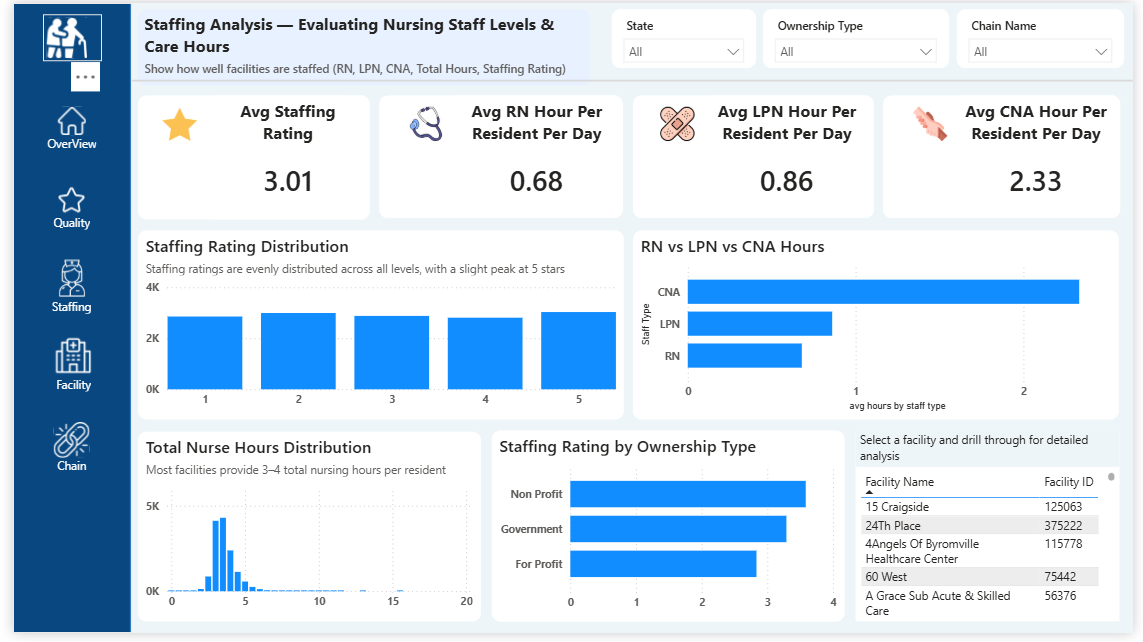

What the dashboard file says about the page in this screenshot:
{"tool":"powerbi","page":{"name":"Staffing","canvas":[1280,720],"ordinal":2},"visuals":[{"type":"shape","box":[0,0,134.4,720],"z":0,"group":"g3"},{"type":"group","id":"g1","title":"Header","box":[135.7,7.3,1144.3,111.3],"z":0},{"type":"textbox","title":"Staffing Analysis — Evaluating Nursing Staff Levels & Care Hours","box":[141.6,7.3,519,88],"z":0,"group":"g1"},{"type":"group","id":"g2","title":"Total Facilites","box":[142.9,105.2,265,142],"z":0,"group":"g5"},{"type":"shape","box":[142.9,105.2,265,142],"z":0,"group":"g2"},{"type":"shape","box":[419.1,105.2,278.3,140],"z":0,"group":"g4"},{"type":"shape","box":[708.6,105.2,275,140],"z":0,"group":"g6"},{"type":"shape","box":[994.8,105.2,271.6,140],"z":0,"group":"g7"},{"type":"tableEx","fields":{"Values":["cms_cleaned.Provider Name","cms_cleaned.CMS Certification Number (CCN)"]},"box":[962.8,531.7,301.7,175],"z":0,"group":"g8"},{"type":"shape","title":"line","box":[135.7,54.3,1144.3,64.3],"z":500,"group":"g1"},{"type":"group","id":"g3","title":"Side Bar","box":[0,0,135.7,720],"z":1000},{"type":"slicer","fields":{"Values":["cms_cleaned.State"]},"box":[683.7,7.5,165,67.5],"z":1000,"group":"g1"},{"type":"cardVisual","title":"Avg Staffing Rating","fields":{"Data":["cms_cleaned.Average Overall Rating"]},"box":[227.2,105.2,174.2,142],"z":1000,"group":"g2"},{"type":"group","id":"g4","title":"Overall Rating","box":[419.1,105.2,278.3,140],"z":1000,"group":"g5"},{"type":"cardVisual","title":"Avg RN Hour Per Resident Per Day","fields":{"Data":["cms_cleaned.Avg RN hour"]},"box":[507.7,105.2,182.9,140],"z":1000,"group":"g4"},{"type":"cardVisual","title":"Avg LPN Hour Per Resident Per Day","fields":{"Data":["cms_cleaned.Average LPN Hour"]},"box":[794.9,105.2,180.7,140],"z":1000,"group":"g6"},{"type":"cardVisual","title":"Avg CNA Hour Per Resident Per Day","fields":{"Data":["cms_cleaned.Avg CNA Hour"]},"box":[1081.2,105.2,178.5,140],"z":1000,"group":"g7"},{"type":"actionButton","title":"Staffing","box":[0,274.3,134.3,98.6],"z":1000,"group":"g3"},{"type":"textbox","title":"Select a facility and drill through for detailed analysis","box":[963.2,490,301.7,41.7],"z":1000,"group":"g8"},{"type":"slicer","fields":{"Values":["cms_cleaned.Ownership Type"]},"box":[857.5,7.5,212.5,67.5],"z":2000,"group":"g1"},{"type":"group","id":"g5","title":"KPI Group","box":[142.9,105.2,1125.2,142],"z":2000},{"type":"group","id":"g6","title":"Stafing rating","box":[708.6,105.2,275,140],"z":2000,"group":"g5"},{"type":"image","box":[166.5,118.2,49.3,40],"z":2000,"group":"g2"},{"type":"image","box":[735.7,118.4,47.1,39.5],"z":2000,"group":"g6"},{"type":"image","box":[1022.6,118.4,53.4,39.5],"z":2000,"group":"g7"},{"type":"image","box":[448.3,118.7,49.5,39.4],"z":2000,"group":"g4"},{"type":"actionButton","title":"Chain","box":[0,462.9,134.3,90],"z":2000,"group":"g3"},{"type":"slicer","fields":{"Values":["cms_cleaned.Chain Name"]},"box":[1078.7,7.5,191.2,67.5],"z":3000,"group":"g1"},{"type":"group","id":"g7","title":"Resident per day","box":[994.8,105.2,273.3,140],"z":3000,"group":"g5"},{"type":"clusteredColumnChart","title":"Staffing Rating Distribution ","fields":{"Y":["cms_cleaned.Total Facilities"],"Category":["cms_cleaned.Overall Rating"]},"box":[142.8,259.4,555.4,215.9],"z":3000},{"type":"actionButton","title":"Facility","box":[2.9,360,132.9,102.9],"z":3000,"group":"g3"},{"type":"actionButton","title":"OverView","box":[0,98.6,134.3,90],"z":4000,"group":"g3"},{"type":"clusteredBarChart","title":"RN vs LPN vs CNA Hours ","fields":{"Y":["cms_cleaned.avg hours by staff type"],"Category":["Staff Type Table.Staff Type"]},"box":[708.6,259.4,555.4,215.9],"z":4000},{"type":"actionButton","box":[0,188.6,134.3,90],"z":5000,"group":"g3"},{"type":"clusteredColumnChart","title":"Total Nurse Hours Distribution ","fields":{"Category":["cms_cleaned.Reported Total Nurse Staffing Hours per Resident per Day (bins)"],"Y":["cms_cleaned.Total Facilities"]},"box":[143.3,490,391.7,216.7],"z":5000},{"type":"actionButton","box":[34.1,12.9,67.1,54.3],"z":6000,"group":"g3"},{"type":"clusteredBarChart","title":"Staffing Rating by Ownership Type ","fields":{"Category":["cms_cleaned.Ownership Category"],"Y":["cms_cleaned.Average Overall Rating"]},"box":[546.7,488.3,403.3,218.3],"z":6000},{"type":"group","id":"g8","title":"Group 1","box":[962.8,490,302,216.7],"z":7000}]}

Visuals, with their boxes on the page's 1280x720 design canvas (x1, y1, x2, y2). These are canvas units, not pixel positions in the 1143x642 screenshot, which may show the page scaled, cropped or inside an application window:
shape: {"left": 0, "top": 0, "right": 134, "bottom": 720}
"Header" group: {"left": 136, "top": 7, "right": 1280, "bottom": 119}
"Staffing Analysis — Evaluating Nursing Staff Levels & Care Hours" textbox: {"left": 142, "top": 7, "right": 661, "bottom": 95}
"Total Facilites" group: {"left": 143, "top": 105, "right": 408, "bottom": 247}
shape: {"left": 143, "top": 105, "right": 408, "bottom": 247}
shape: {"left": 419, "top": 105, "right": 697, "bottom": 245}
shape: {"left": 709, "top": 105, "right": 984, "bottom": 245}
shape: {"left": 995, "top": 105, "right": 1266, "bottom": 245}
tableEx - cms_cleaned.Provider Name x cms_cleaned.CMS Certification Number (CCN): {"left": 963, "top": 532, "right": 1264, "bottom": 707}
"line" shape: {"left": 136, "top": 54, "right": 1280, "bottom": 119}
"Side Bar" group: {"left": 0, "top": 0, "right": 136, "bottom": 720}
slicer - cms_cleaned.State: {"left": 684, "top": 8, "right": 849, "bottom": 75}
"Avg Staffing Rating" cardVisual: {"left": 227, "top": 105, "right": 401, "bottom": 247}
"Overall Rating" group: {"left": 419, "top": 105, "right": 697, "bottom": 245}
"Avg RN Hour Per Resident Per Day" cardVisual: {"left": 508, "top": 105, "right": 691, "bottom": 245}
"Avg LPN Hour Per Resident Per Day" cardVisual: {"left": 795, "top": 105, "right": 976, "bottom": 245}
"Avg CNA Hour Per Resident Per Day" cardVisual: {"left": 1081, "top": 105, "right": 1260, "bottom": 245}
"Staffing" actionButton: {"left": 0, "top": 274, "right": 134, "bottom": 373}
"Select a facility and drill through for detailed analysis" textbox: {"left": 963, "top": 490, "right": 1265, "bottom": 532}
slicer - cms_cleaned.Ownership Type: {"left": 858, "top": 8, "right": 1070, "bottom": 75}
"KPI Group" group: {"left": 143, "top": 105, "right": 1268, "bottom": 247}
"Stafing rating" group: {"left": 709, "top": 105, "right": 984, "bottom": 245}
image: {"left": 166, "top": 118, "right": 216, "bottom": 158}
image: {"left": 736, "top": 118, "right": 783, "bottom": 158}
image: {"left": 1023, "top": 118, "right": 1076, "bottom": 158}
image: {"left": 448, "top": 119, "right": 498, "bottom": 158}
"Chain" actionButton: {"left": 0, "top": 463, "right": 134, "bottom": 553}
slicer - cms_cleaned.Chain Name: {"left": 1079, "top": 8, "right": 1270, "bottom": 75}
"Resident per day" group: {"left": 995, "top": 105, "right": 1268, "bottom": 245}
"Staffing Rating Distribution " clusteredColumnChart: {"left": 143, "top": 259, "right": 698, "bottom": 475}
"Facility" actionButton: {"left": 3, "top": 360, "right": 136, "bottom": 463}
"OverView" actionButton: {"left": 0, "top": 99, "right": 134, "bottom": 189}
"RN vs LPN vs CNA Hours " clusteredBarChart: {"left": 709, "top": 259, "right": 1264, "bottom": 475}
actionButton: {"left": 0, "top": 189, "right": 134, "bottom": 279}
"Total Nurse Hours Distribution " clusteredColumnChart: {"left": 143, "top": 490, "right": 535, "bottom": 707}
actionButton: {"left": 34, "top": 13, "right": 101, "bottom": 67}
"Staffing Rating by Ownership Type " clusteredBarChart: {"left": 547, "top": 488, "right": 950, "bottom": 707}
"Group 1" group: {"left": 963, "top": 490, "right": 1265, "bottom": 707}
